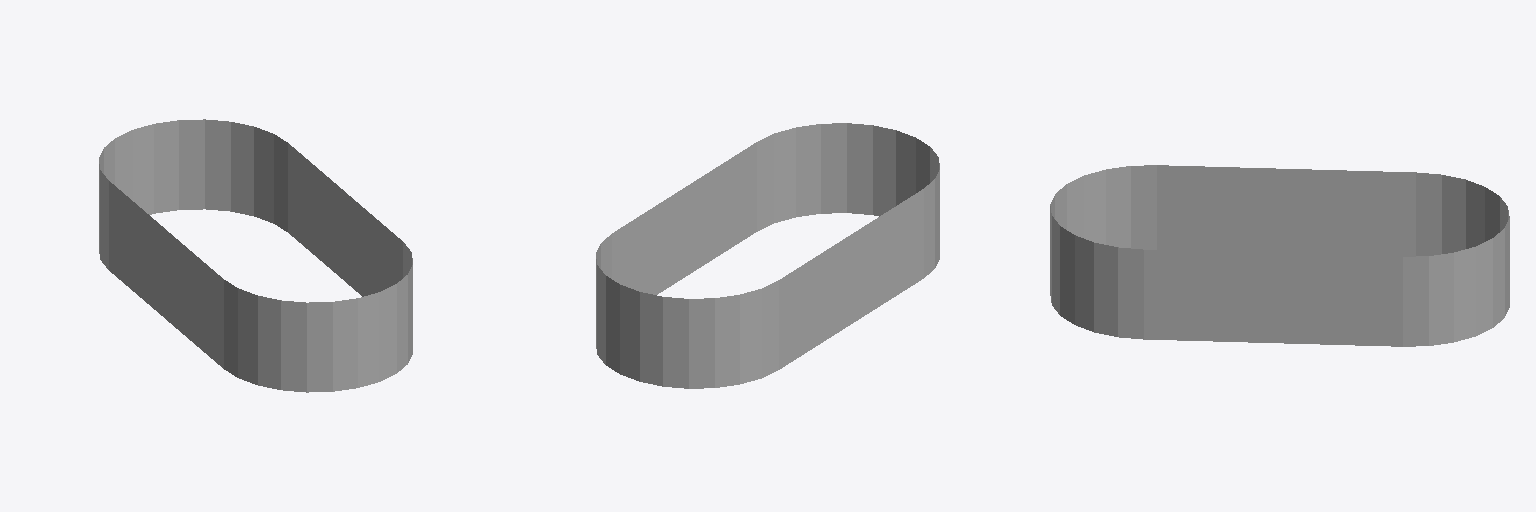
Rendered from original-100.obj.
3 views of the same model, side by side, from view 1: azimuth 30°, elevation 25°; view 2: azimuth 150°, elevation 25°; view 3: azimuth 270°, elevation 25° (orthographic).
Parts seen in each view (by area): view 1: 3dw.47c68395a5775e10d9deb3f829cc2475/Model/Component_18_1/Compon; view 2: 3dw.47c68395a5775e10d9deb3f829cc2475/Model/Component_18_1/Compon; view 3: 3dw.47c68395a5775e10d9deb3f829cc2475/Model/Component_18_1/Compon.
Part boxes in pixels (left/top/right/bottom): 3dw.47c68395a5775e10d9deb3f829cc2475/Model/Component_18_1/Compon: left=99, top=119, right=412, bottom=392; 3dw.47c68395a5775e10d9deb3f829cc2475/Model/Component_18_1/Compon: left=596, top=123, right=939, bottom=388; 3dw.47c68395a5775e10d9deb3f829cc2475/Model/Component_18_1/Compon: left=1050, top=165, right=1509, bottom=346.
Size of the model in its own units: 0.0236 by 0.0108 by 0.0499.